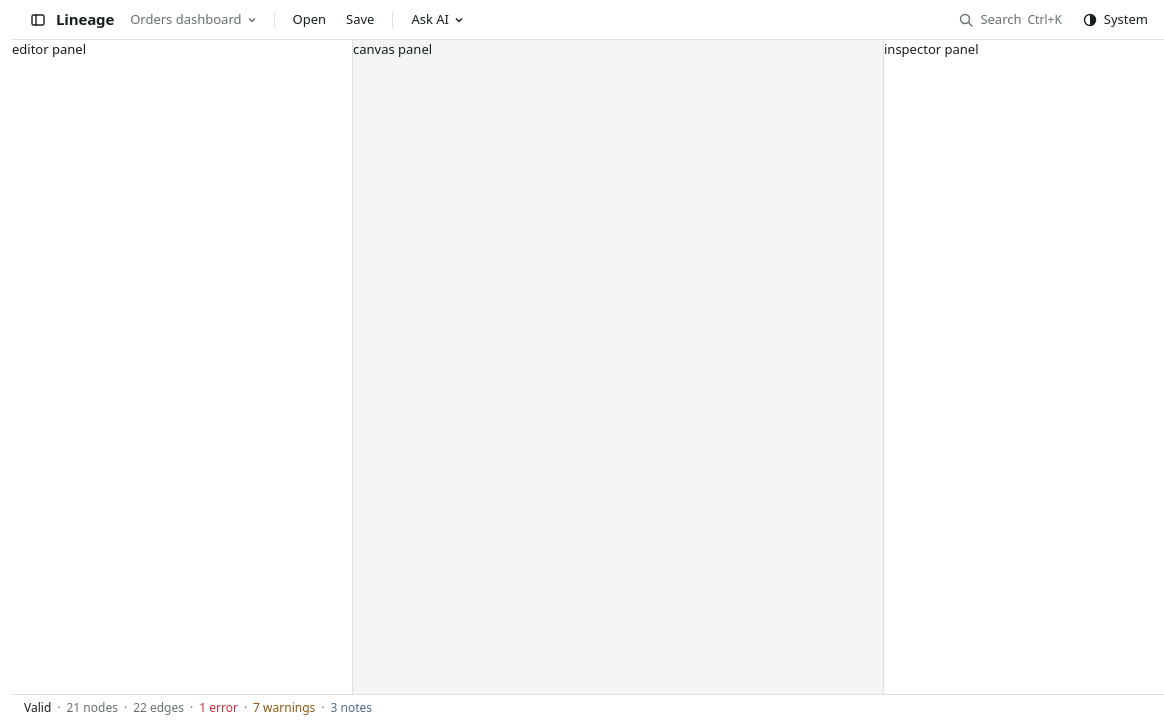
it: flow menu › starts a new, empty flow without asking when nothing would be lost
This screenshot has width=1164, height=720.
What coordinates should you click on to do the following:
click the button "Orders dashboard"
I would click on:
 (193, 20)
Its box is 122,6 -> 264,34.
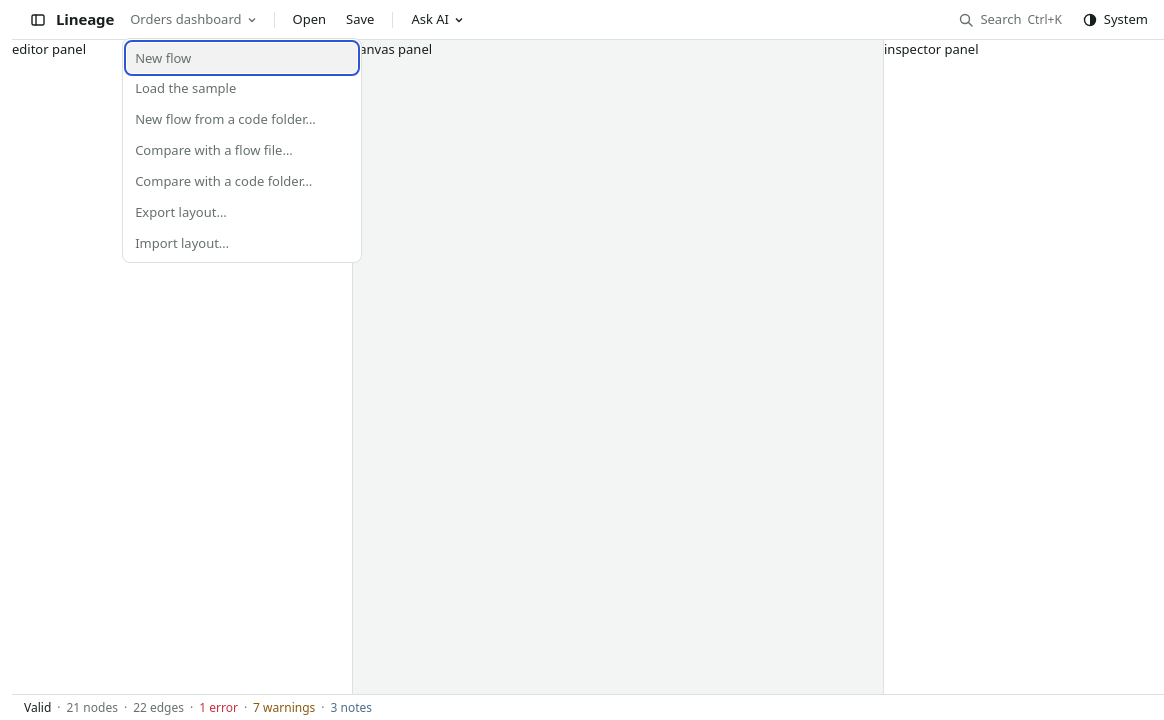
What coordinates should you click on to do the following:
click the menu item "New flow"
I would click on:
 (242, 58)
Its box is 127,42 -> 357,73.
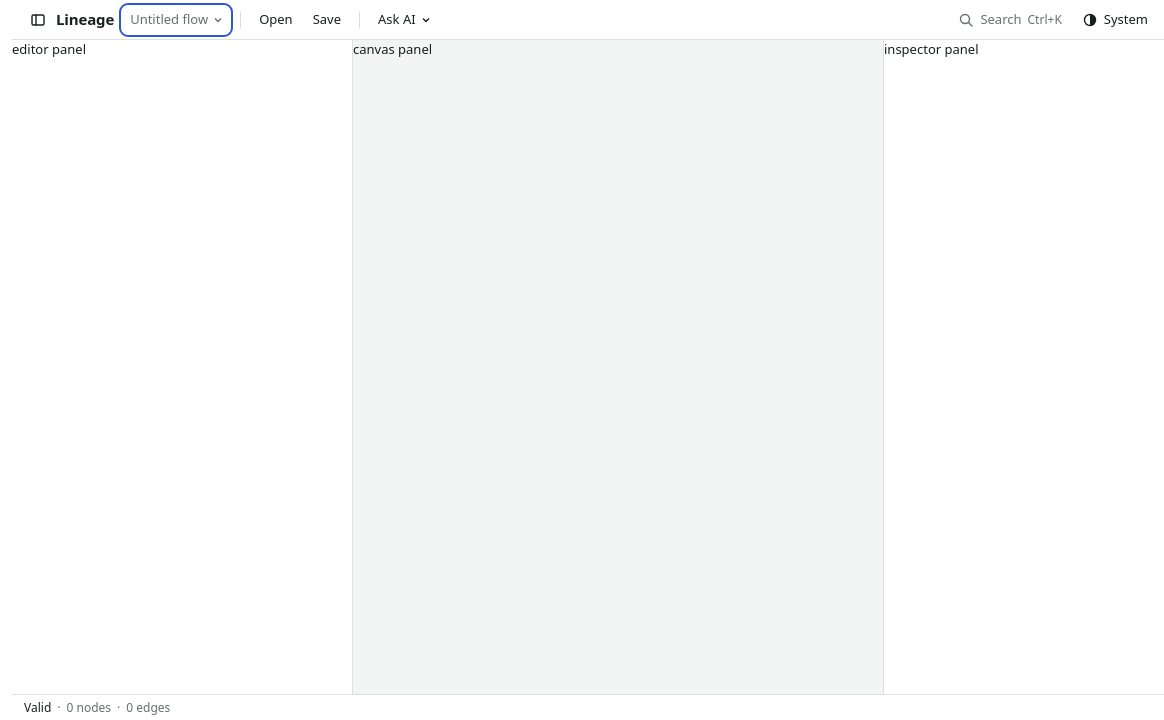
Now the text "0 nodes" is shown, box 57,699 -> 111,716
What coordinates should you click on to do the following:
click the button "Untitled flow"
I would click on:
 (176, 20)
Its box is 122,6 -> 230,34.
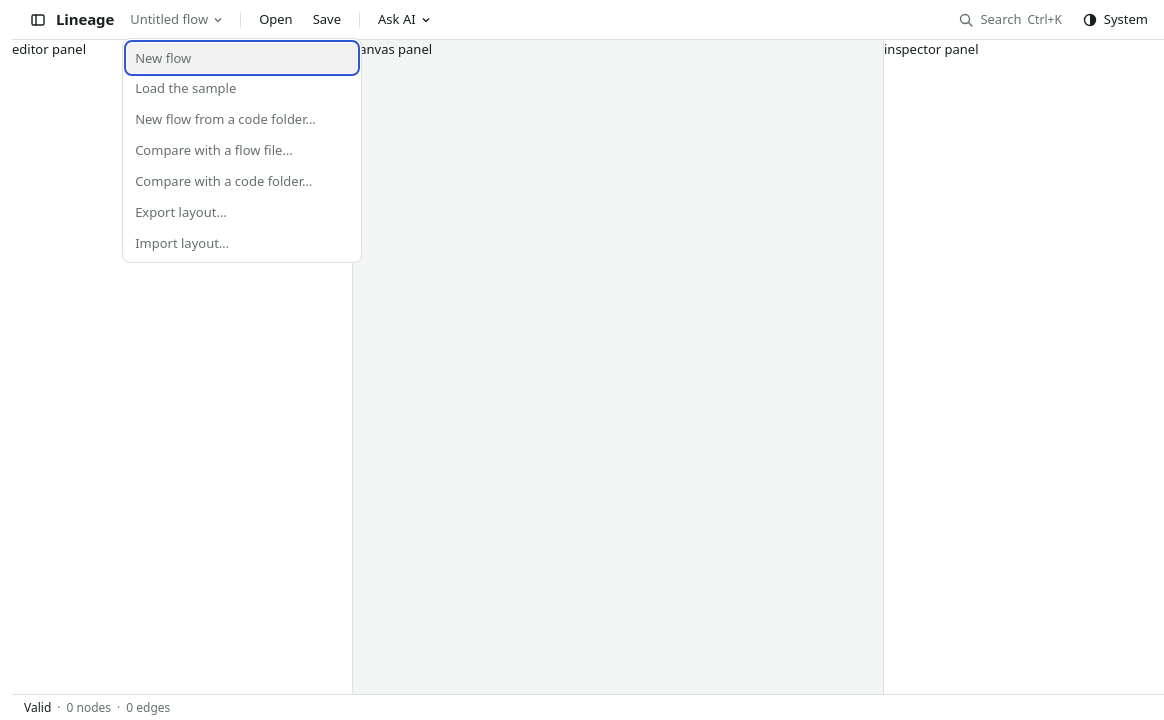
What coordinates should you click on to do the following:
click the menu item "Load the sample"
I would click on:
 (242, 89)
Its box is 127,73 -> 357,104.
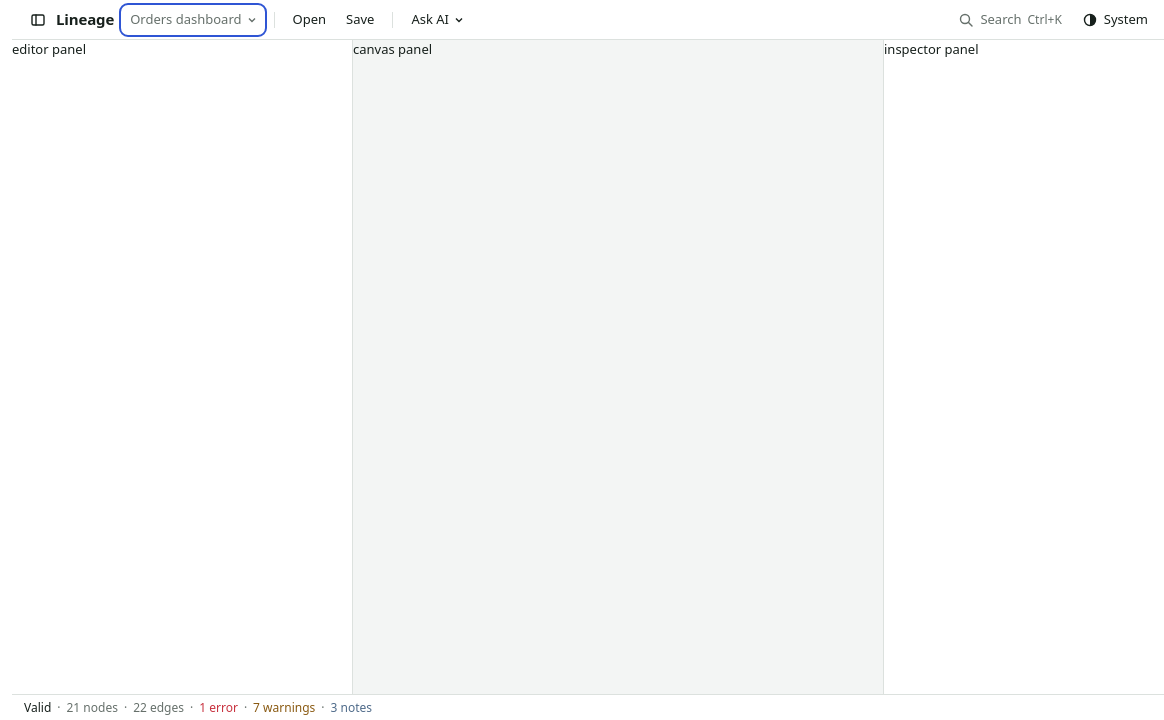
Now the button named "Untitled flow" reads "Orders dashboard", box 122,6 -> 264,34
